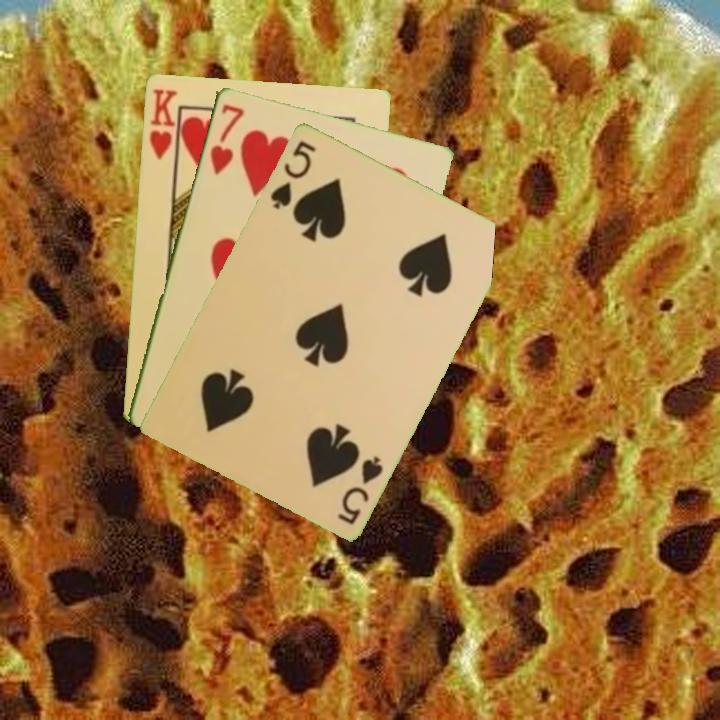5s: (266, 136, 319, 212), (334, 452, 386, 527)
7h: (206, 100, 247, 177)
Kh: (145, 85, 181, 168)
